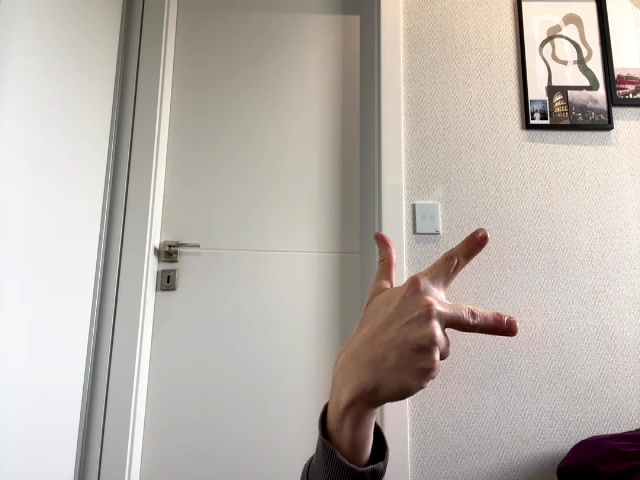K: (344, 229, 518, 419)
